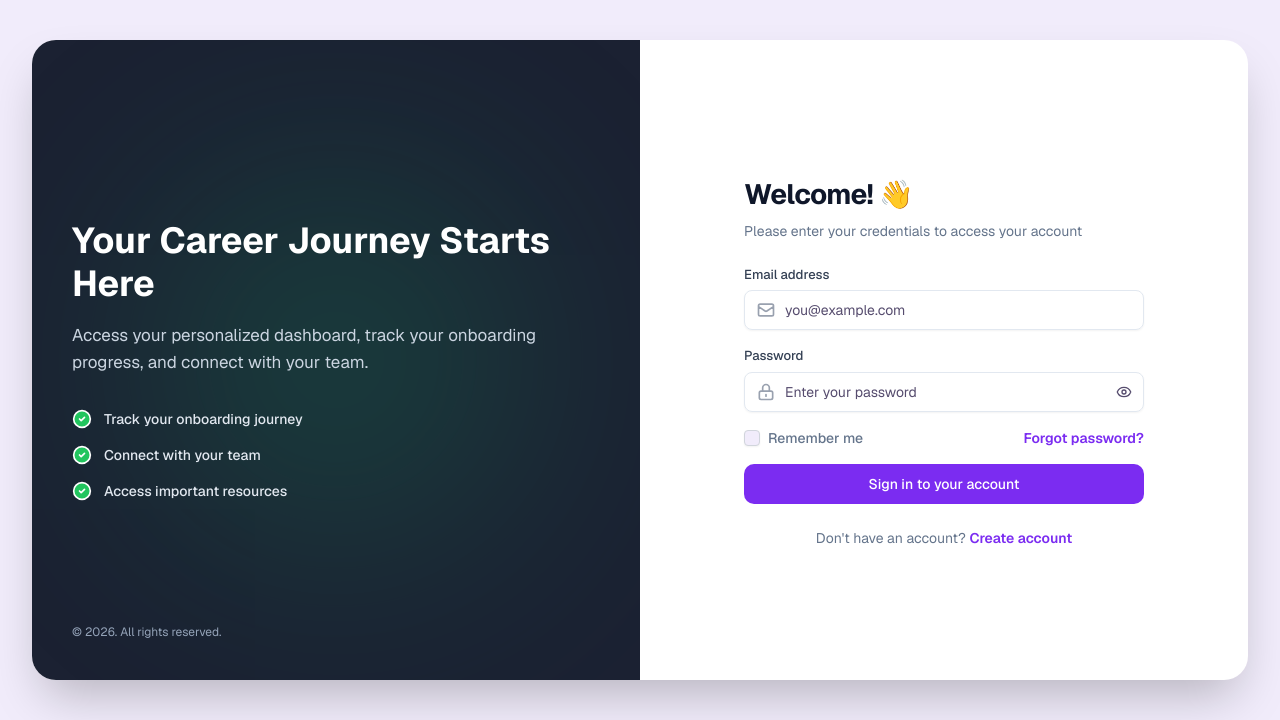
Test: LoginPage – Successful Login › changes the main login form to OTP entry after credentials pass
Type "test@test.com" into the field with placeholder "you@example.com" at coordinates (944, 310), box [744, 290, 1144, 330]
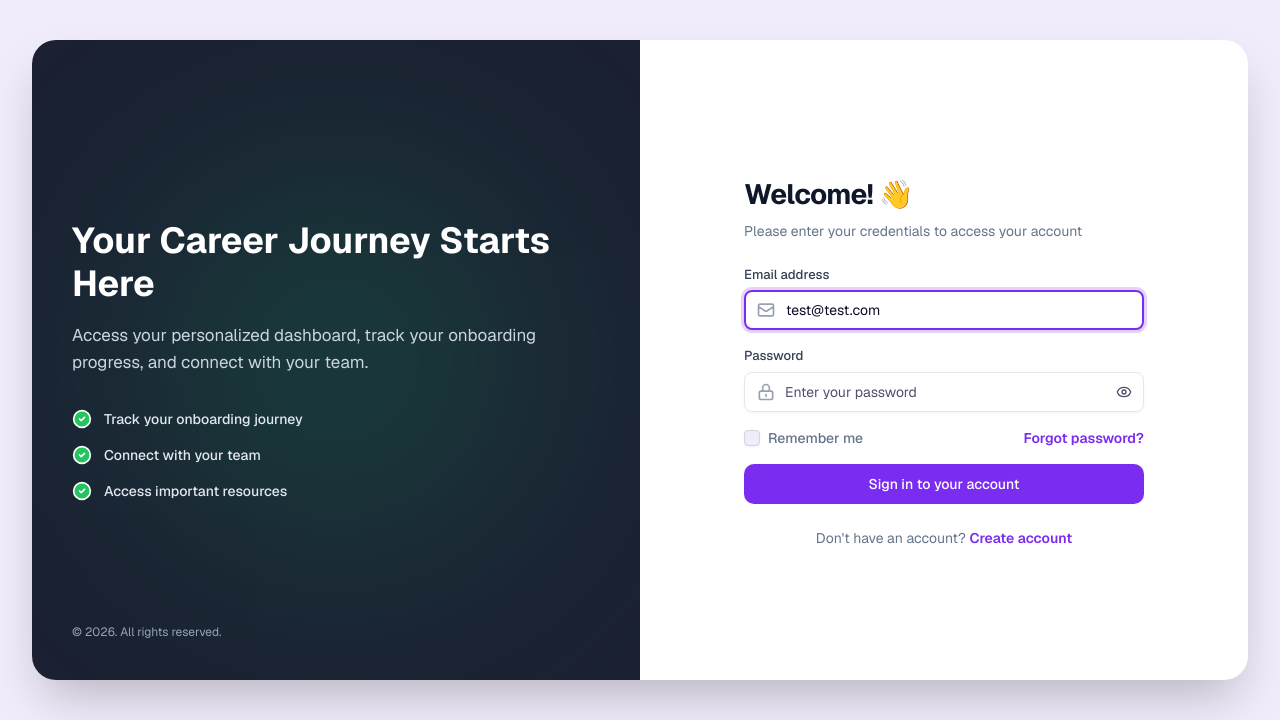
Type "password123" into the password field with placeholder "Enter your password" at coordinates (944, 392), box [744, 372, 1144, 412]
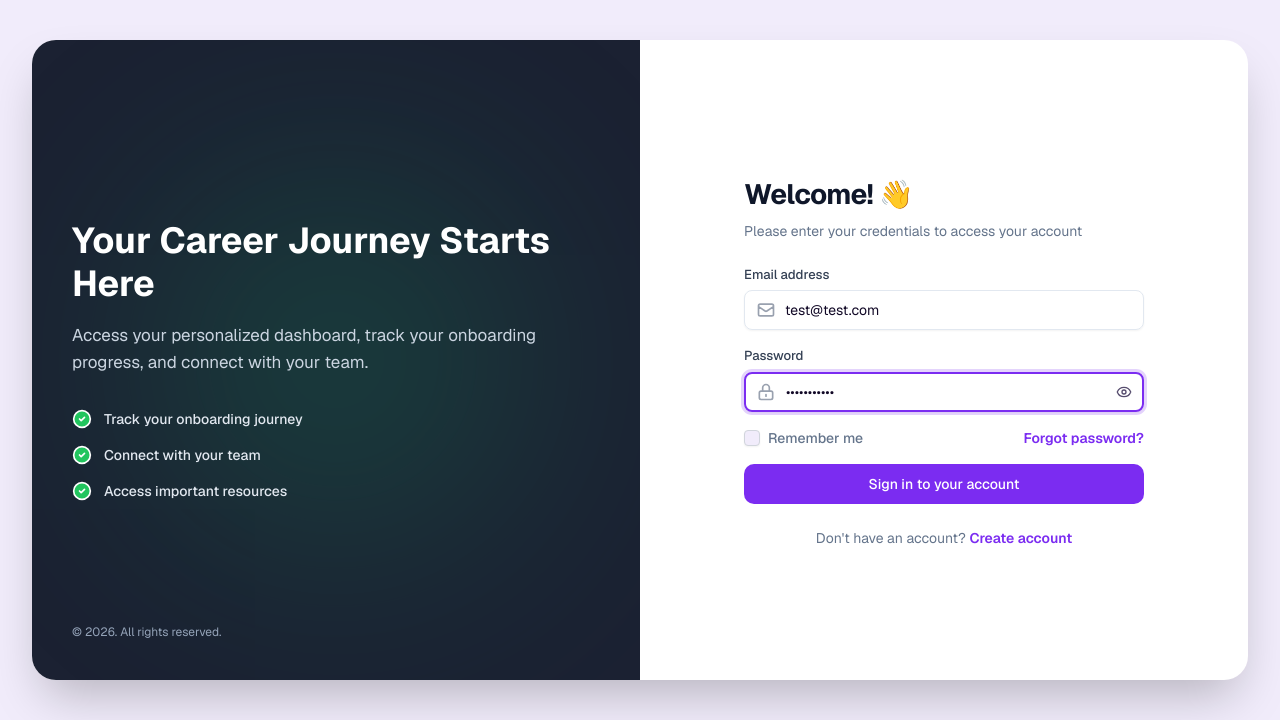
Click the button "Sign in to your account" at coordinates (944, 484), box [744, 464, 1144, 504]
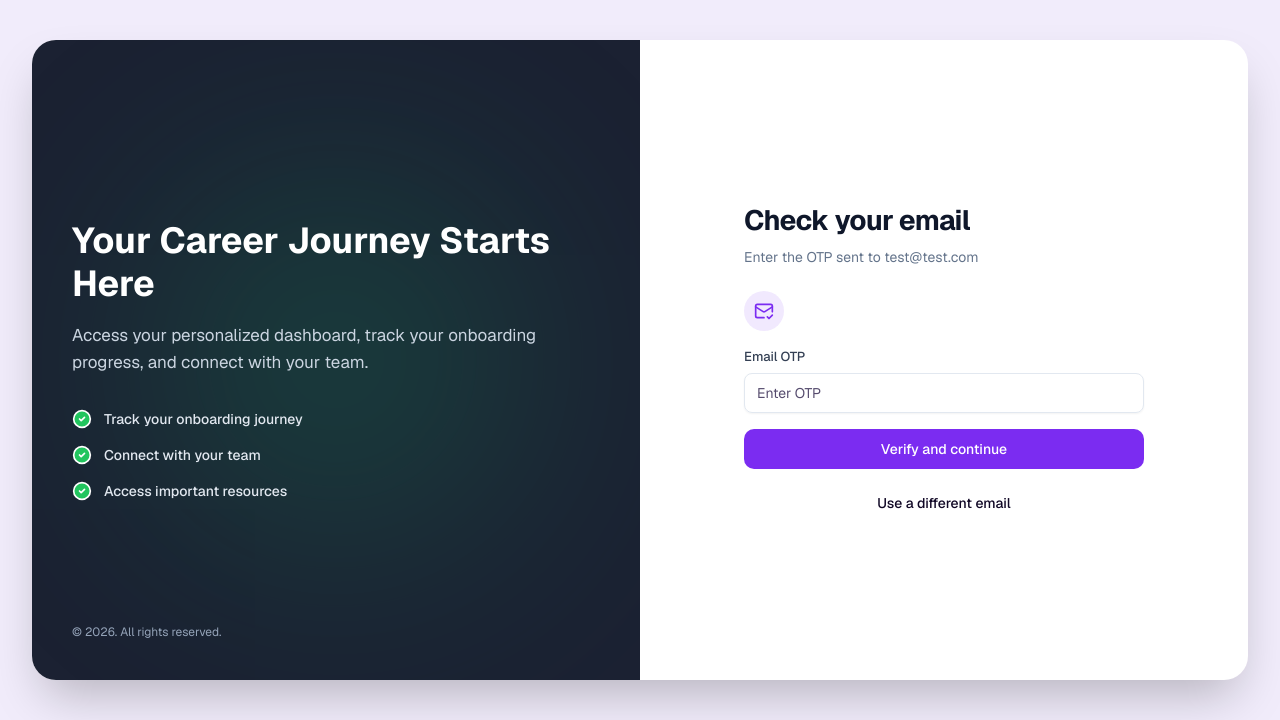
Expected: the heading "Check your email" is shown, [744, 202, 970, 238]
Expected: the text "Enter the OTP sent to test@test.com" is shown, [744, 248, 978, 266]
Expected: the field with placeholder "Enter OTP" is shown, [744, 373, 1144, 413]
